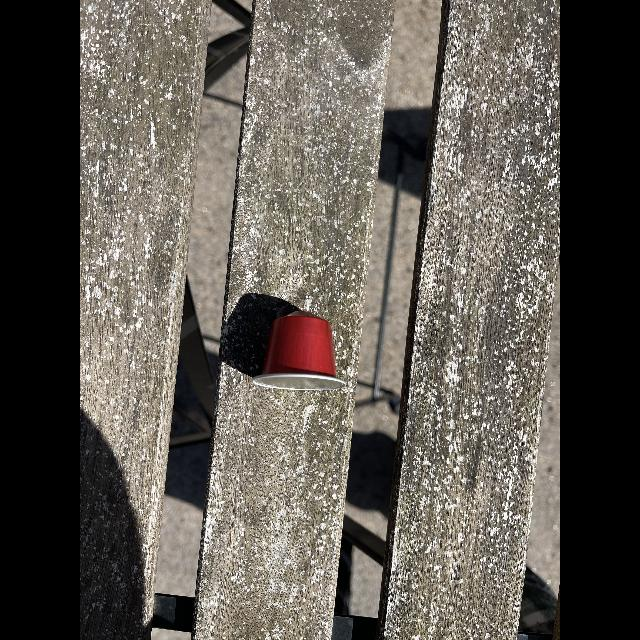intact_capsule: (251, 304, 353, 400)
